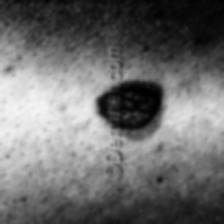Potentially Malignant Skin Tumors: (98, 80, 174, 122)
